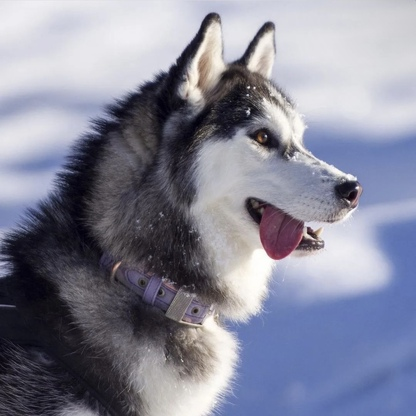husky: (1, 6, 363, 416)
